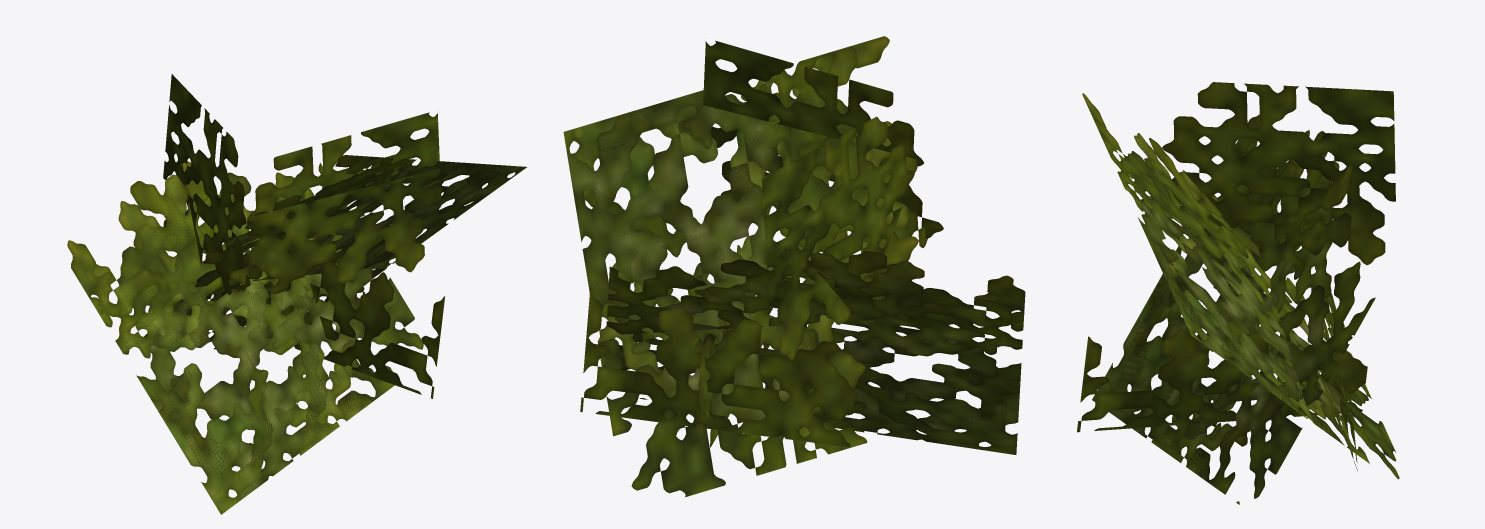
File: chestnut_leaves_yellowish_slab.obj
The picture shows the model from 3 angles, left to right: view 1: azimuth 30°, elevation 25°; view 2: azimuth 150°, elevation 25°; view 3: azimuth 270°, elevation 25°; orthographic projection. The views are drawn at different scales.
Parts seen in each view (by area): view 1: cube; view 2: cube; view 3: cube.
Part boxes in pixels (x1,y1,x2,y2): cube: [67, 74, 526, 514]; cube: [563, 36, 1025, 497]; cube: [1077, 82, 1399, 504].
Size of the model in its own units: 2.99 by 2.22 by 2.1.
